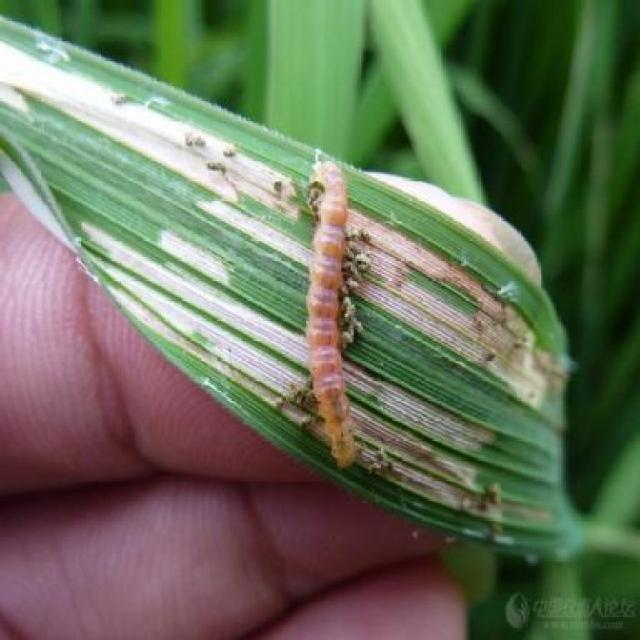leaf-folder: (257, 131, 383, 503)
